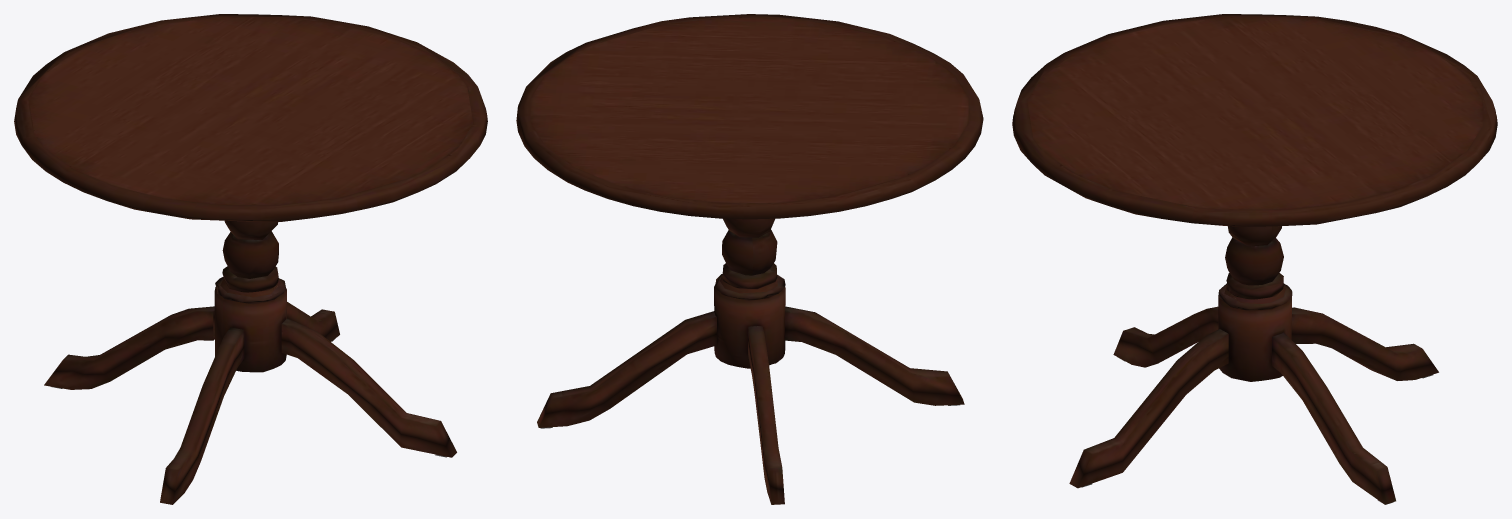
Rendered from round_wooden_table_01.glb.
3 renders of one model, left to right at view 1: azimuth 30°, elevation 25°; view 2: azimuth 150°, elevation 25°; view 3: azimuth 270°, elevation 25°, orthographic. The views are drawn at different scales.
Visible parts, largest first — view 1: round_wooden_table_01; view 2: round_wooden_table_01; view 3: round_wooden_table_01.
Part boxes in pixels (x1,y1,x2,y2): round_wooden_table_01: (14,14,487,504); round_wooden_table_01: (516,14,983,504); round_wooden_table_01: (1012,14,1497,504).
Size of the model in its own units: 1.4 by 1 by 1.4.
Materials: 1 (1 with a texture image).
